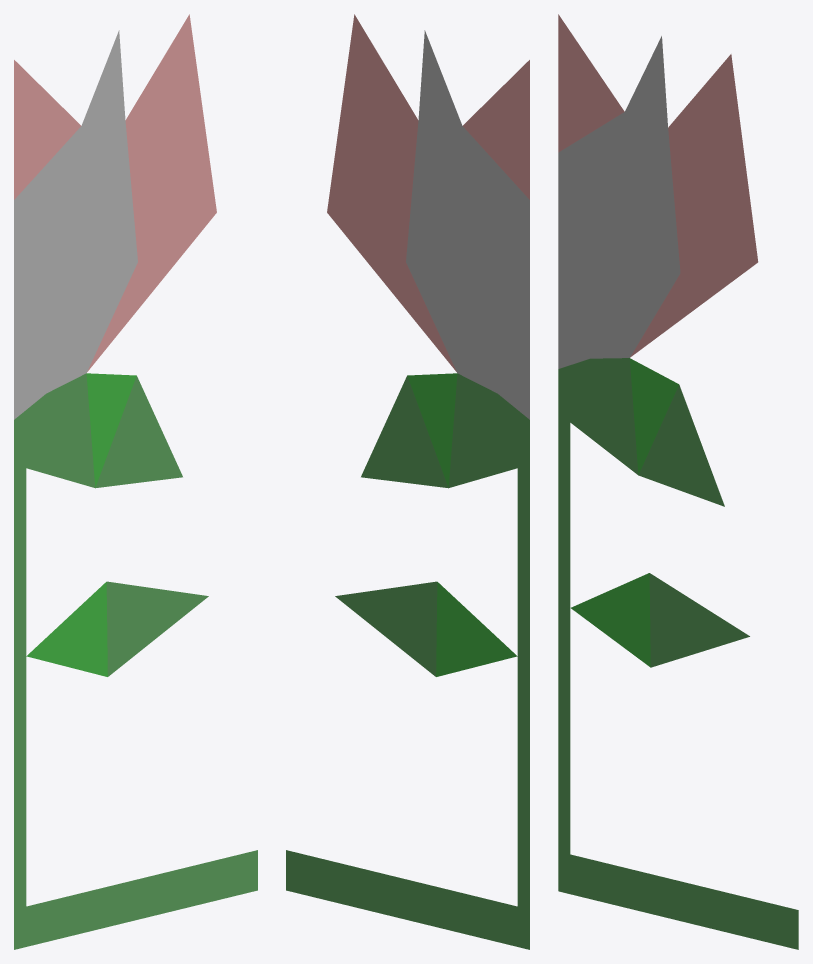
Rendered from flor6c.obj.
3 renders of one model, left to right at view 1: azimuth 30°, elevation 25°; view 2: azimuth 150°, elevation 25°; view 3: azimuth 330°, elevation 25°, orthographic.
Size of the model in its own units: 0.5 by 1.75 by 0.
